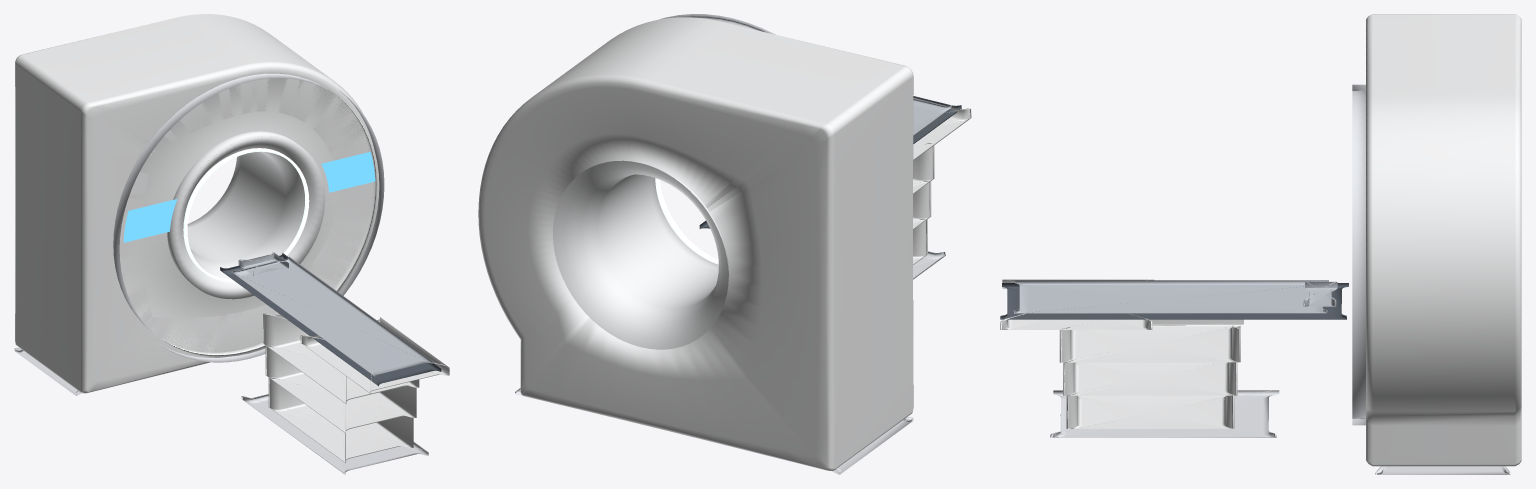
The model's file is uct_scanner.glb.
3 renders of one model, left to right at view 1: azimuth 30°, elevation 25°; view 2: azimuth 150°, elevation 25°; view 3: azimuth 270°, elevation 25°, orthographic. The views are drawn at different scales.
Parts seen in each view (by area): view 1: Gantry_Shell_Main, Medallion_White_Face, Bore_Lining, Table_Mattress, Table_Column_Tier2, Table_Column_Tier1, Medallion_Silver_Collar, Table_Column_Tier3, Table_Silver_Floor_Plate, Couch_White_Rear_Cradle, Couch_CarbonFiber_Pallet, Touchscreen_Flush_Left (+4 smaller); view 2: Gantry_Shell_Main, Bore_Lining, Couch_White_Rear_Cradle, Table_Mattress, Table_Column_Tier3, Gantry_Silver_Floor_Base, Table_Column_Tier2, Bore_Halo_Light, Table_Column_Tier1, Couch_CarbonFiber_Pallet, Medallion_Silver_Collar; view 3: Gantry_Shell_Main, Table_Mattress, Table_Column_Tier3, Table_Column_Tier2, Table_Column_Tier1, Medallion_Silver_Collar, Table_Silver_Floor_Plate, Couch_CarbonFiber_Pallet, Couch_White_Rear_Cradle, Gantry_Silver_Floor_Base, Table_Head_Cradle.
Boxes of the visible parts, x1,y1,x2,y2 form: Gantry_Shell_Main: [15, 14, 374, 393]; Medallion_White_Face: [113, 73, 379, 357]; Bore_Lining: [167, 131, 325, 299]; Table_Mattress: [231, 256, 432, 376]; Table_Column_Tier2: [265, 345, 416, 433]; Table_Column_Tier1: [268, 377, 413, 462]; Medallion_Silver_Collar: [113, 73, 384, 362]; Table_Column_Tier3: [263, 313, 419, 403]; Table_Silver_Floor_Plate: [241, 394, 428, 474]; Couch_White_Rear_Cradle: [300, 317, 449, 393]; Couch_CarbonFiber_Pallet: [220, 253, 441, 386]; Touchscreen_Flush_Left: [123, 199, 177, 242]; Gantry_Shell_Main: [478, 17, 913, 470]; Bore_Lining: [553, 160, 728, 349]; Couch_White_Rear_Cradle: [913, 97, 971, 160]; Table_Mattress: [913, 98, 951, 135]; Table_Column_Tier3: [913, 142, 934, 194]; Gantry_Silver_Floor_Base: [515, 388, 913, 474]; Table_Column_Tier2: [913, 180, 931, 229]; Bore_Halo_Light: [655, 178, 718, 264]; Table_Column_Tier1: [913, 218, 927, 265]; Couch_CarbonFiber_Pallet: [699, 96, 961, 228]; Medallion_Silver_Collar: [659, 14, 775, 34]; Gantry_Shell_Main: [1366, 14, 1521, 466]; Table_Mattress: [1013, 280, 1328, 313]; Table_Column_Tier3: [1059, 319, 1243, 362]; Table_Column_Tier2: [1063, 325, 1240, 395]; Table_Column_Tier1: [1066, 362, 1234, 428]; Medallion_Silver_Collar: [1352, 84, 1365, 425]; Table_Silver_Floor_Plate: [1050, 390, 1279, 437]; Couch_CarbonFiber_Pallet: [1000, 283, 1348, 319]; Couch_White_Rear_Cradle: [1000, 279, 1153, 329]; Gantry_Silver_Floor_Base: [1375, 466, 1510, 474]; Table_Head_Cradle: [1303, 281, 1337, 306].
Bounding box in the file's own units: 2.34 × 2.18 × 3.22.
